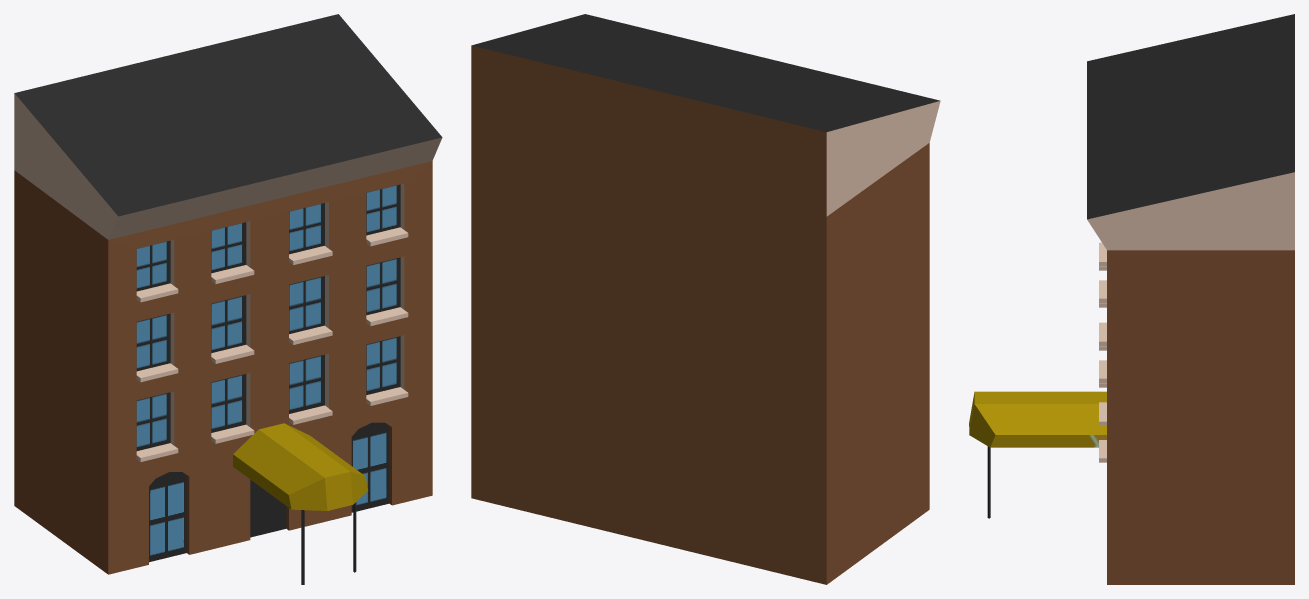
File: JazzBig1.obj
3 renders of one model, left to right at view 1: azimuth 30°, elevation 25°; view 2: azimuth 150°, elevation 25°; view 3: azimuth 270°, elevation 25°, orthographic. The views are drawn at different scales.
Parts seen in each view (by area): view 1: DuzyJazzDONE; view 2: DuzyJazzDONE; view 3: DuzyJazzDONE.
Boxes of the visible parts, x1=… form: DuzyJazzDONE: x1=14, y1=14, x2=442, y2=584; DuzyJazzDONE: x1=471, y1=14, x2=940, y2=584; DuzyJazzDONE: x1=969, y1=14, x2=1294, y2=584.
Bounding box in the file's own units: 10.95 × 13.33 × 9.53.
